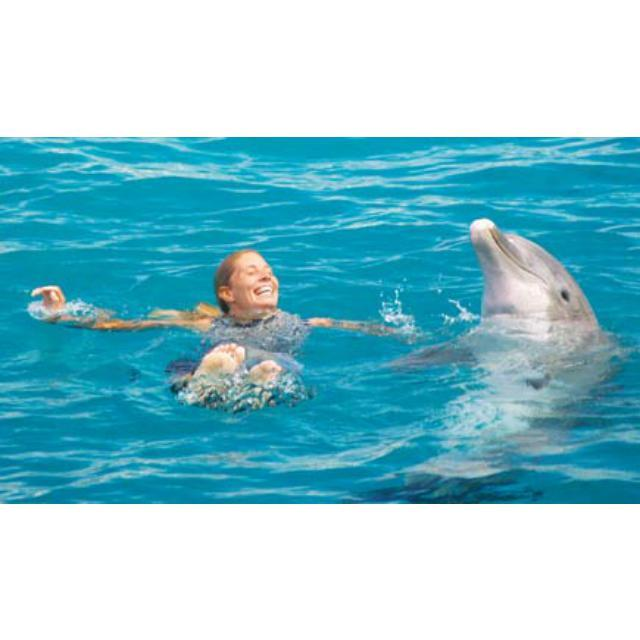human: (29, 249, 318, 412)
